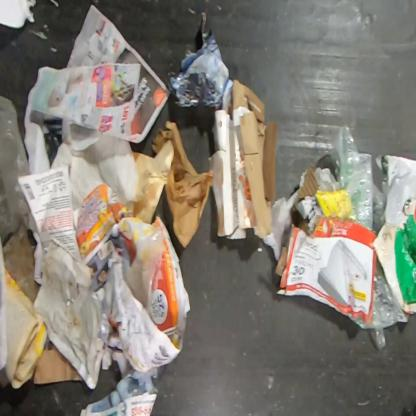cardboard: (275, 215, 377, 330), (208, 78, 279, 240), (290, 164, 345, 237), (30, 338, 86, 386)
soft_plastic: (369, 154, 415, 316), (327, 123, 387, 234), (0, 94, 32, 246), (123, 223, 166, 317), (371, 258, 410, 351)
